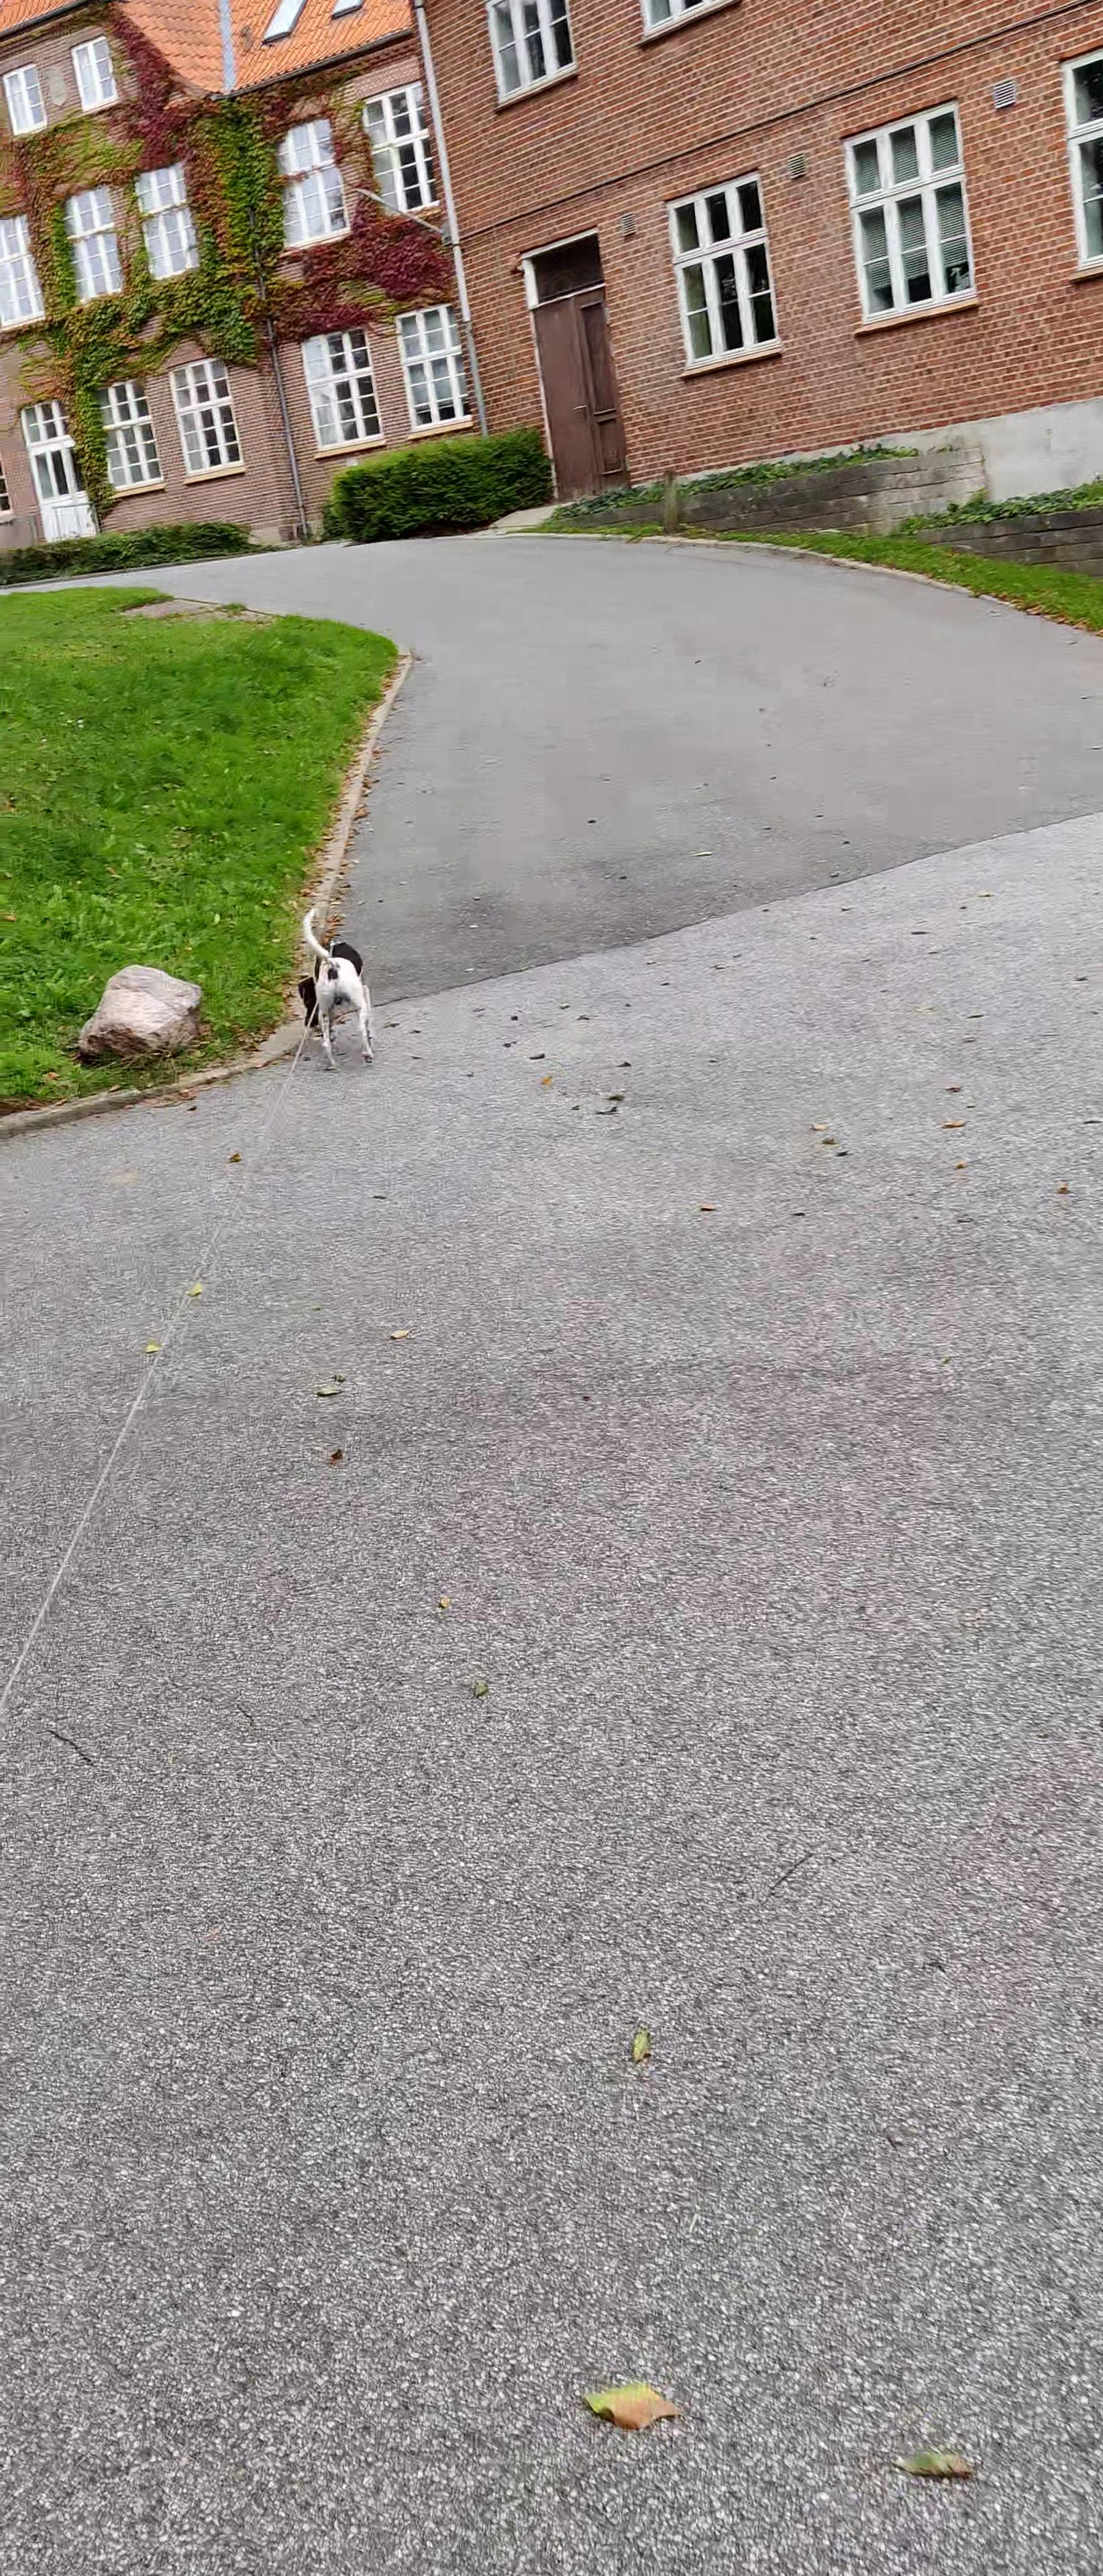Dog: (283, 904, 383, 1071)
